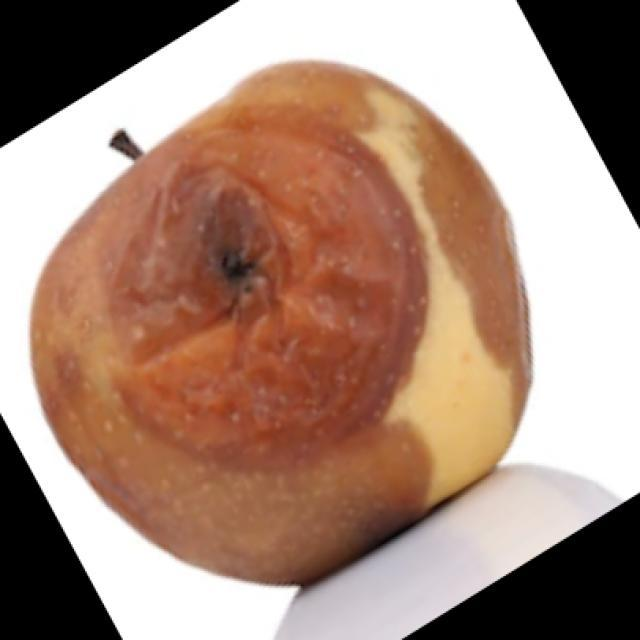Rotten: (22, 53, 540, 585)
